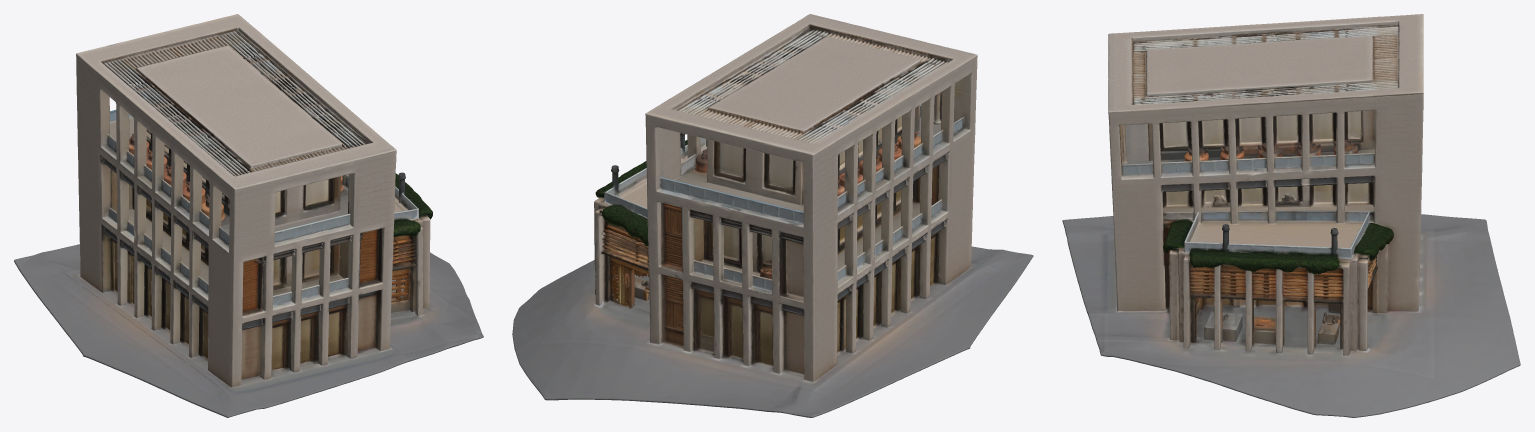
The model's file is shopblk3.glb.
The picture shows the model from 3 angles, left to right: view 1: azimuth 30°, elevation 25°; view 2: azimuth 150°, elevation 25°; view 3: azimuth 270°, elevation 25°; orthographic projection. The views are drawn at different scales.
Parts seen in each view (by area): view 1: tripo_node_a7c42c4e-fc94-45e2-8fab-97f05bae58b5; view 2: tripo_node_a7c42c4e-fc94-45e2-8fab-97f05bae58b5; view 3: tripo_node_a7c42c4e-fc94-45e2-8fab-97f05bae58b5.
Boxes of the visible parts, x1=… form: tripo_node_a7c42c4e-fc94-45e2-8fab-97f05bae58b5: x1=14, y1=14, x2=483, y2=417; tripo_node_a7c42c4e-fc94-45e2-8fab-97f05bae58b5: x1=512, y1=14, x2=1033, y2=417; tripo_node_a7c42c4e-fc94-45e2-8fab-97f05bae58b5: x1=1062, y1=14, x2=1520, y2=417.
Size of the model in its own units: 19.41 by 12 by 19.88.
1 material, 1 textured.
